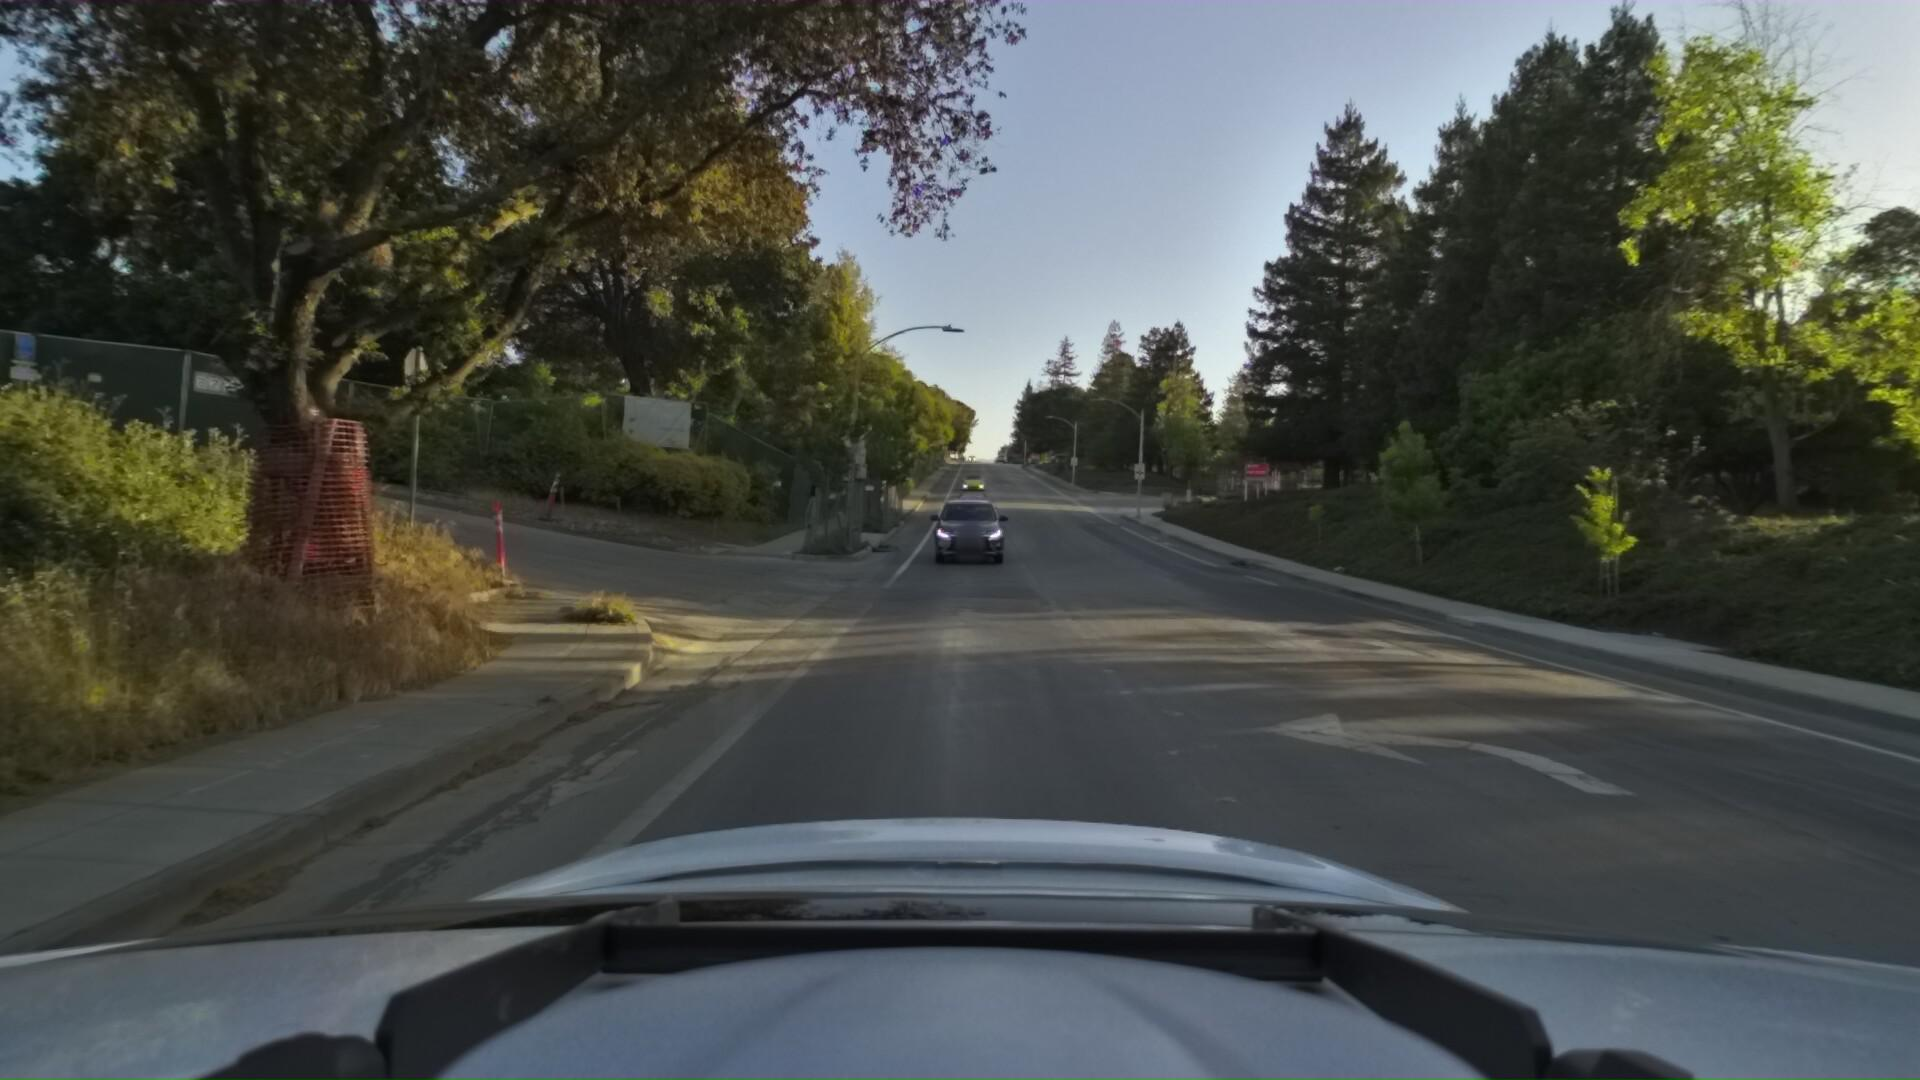car: (924, 488, 1011, 567), (945, 484, 998, 530)
